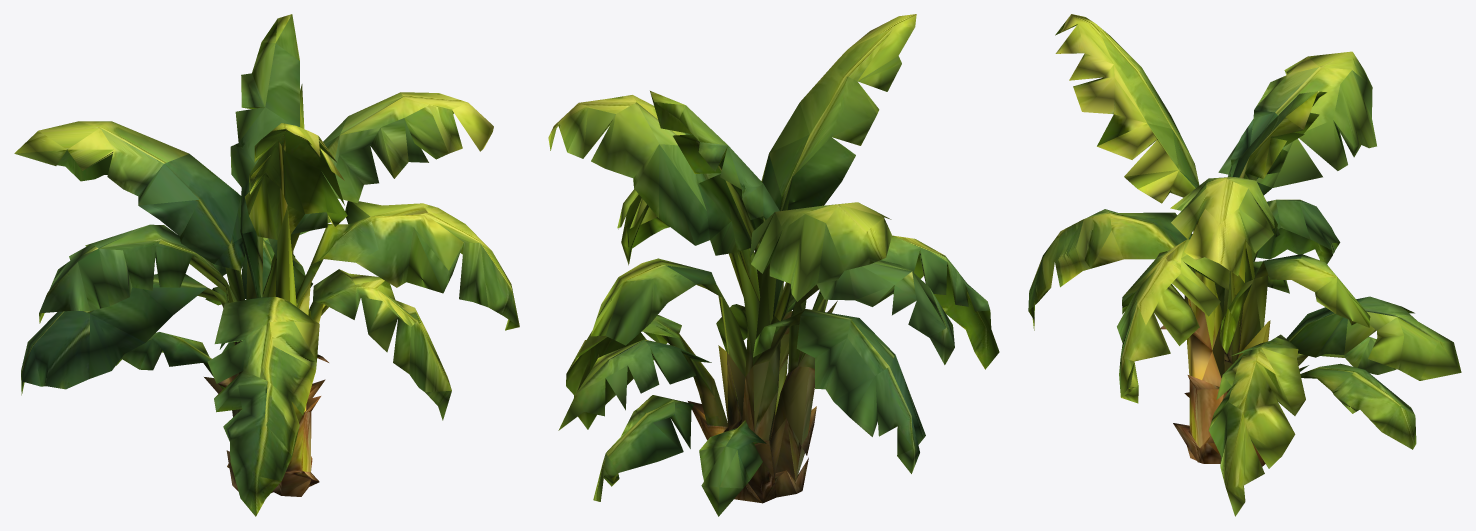
The model's file is banana-plant.glb.
The picture shows the model from 3 angles, left to right: view 1: azimuth 30°, elevation 25°; view 2: azimuth 150°, elevation 25°; view 3: azimuth 270°, elevation 25°; orthographic projection. The views are drawn at different scales.
Visible parts, largest first — view 1: TripoBananaPlant_Mesh; view 2: TripoBananaPlant_Mesh; view 3: TripoBananaPlant_Mesh.
Boxes of the visible parts, x1=… form: TripoBananaPlant_Mesh: x1=14, y1=14, x2=519, y2=516; TripoBananaPlant_Mesh: x1=548, y1=14, x2=999, y2=516; TripoBananaPlant_Mesh: x1=1028, y1=14, x2=1461, y2=516.
Bounding box in the file's own units: 2.8 × 2.7 × 2.6.
Materials: 1 (1 with a texture image).
